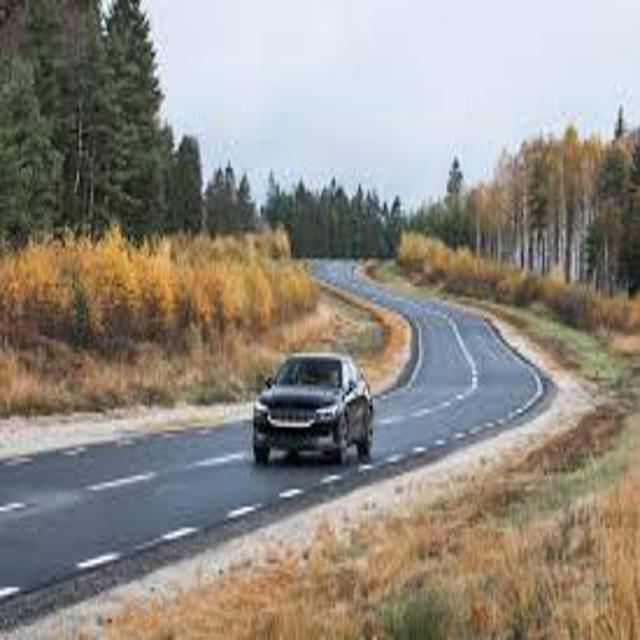car: (252, 353, 375, 464)
